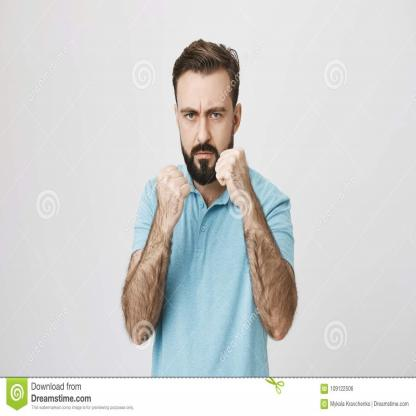fist: (143, 161, 197, 232), (205, 143, 260, 208)
